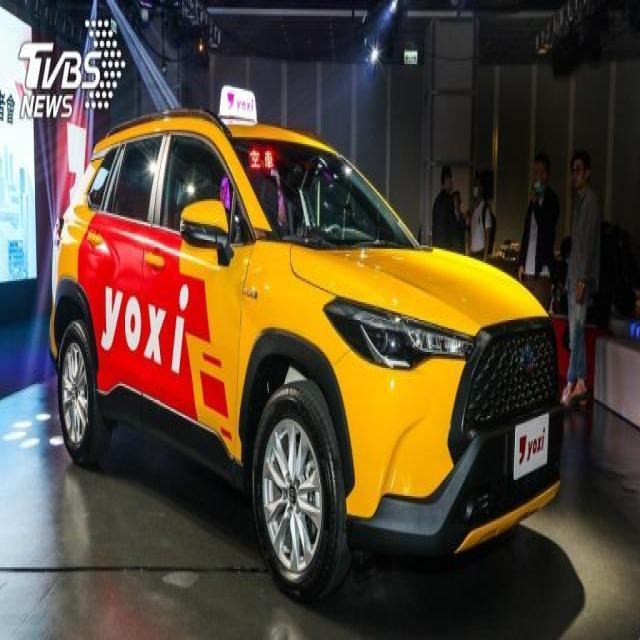taxi: (43, 76, 583, 640)
